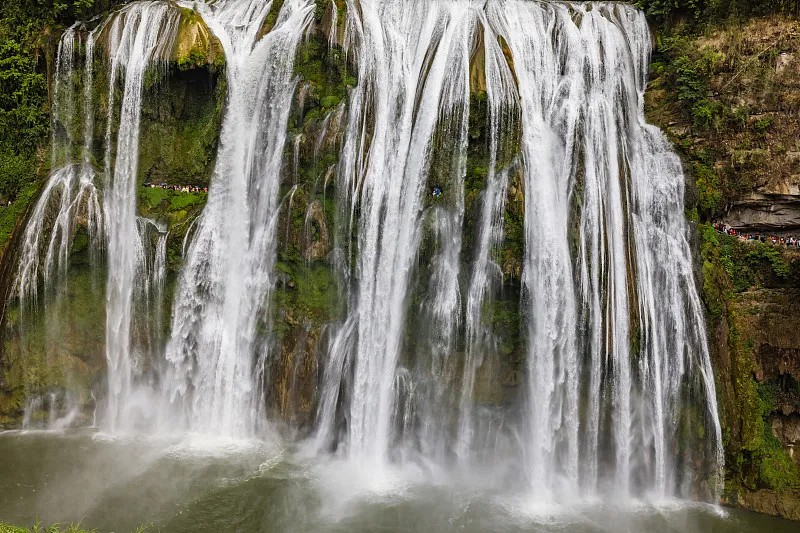Huangguoshu: (11, 1, 725, 515)
